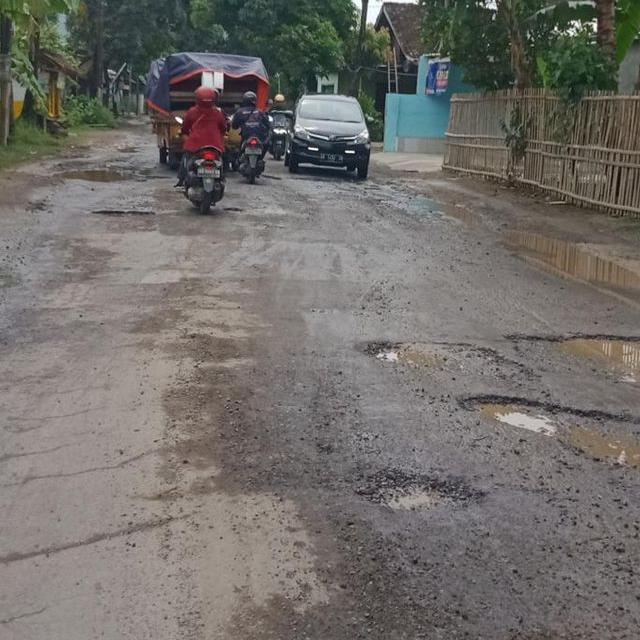lubang_kecil: (437, 379, 640, 467), (498, 312, 640, 431), (335, 321, 527, 401), (335, 451, 475, 538), (57, 186, 182, 243)
